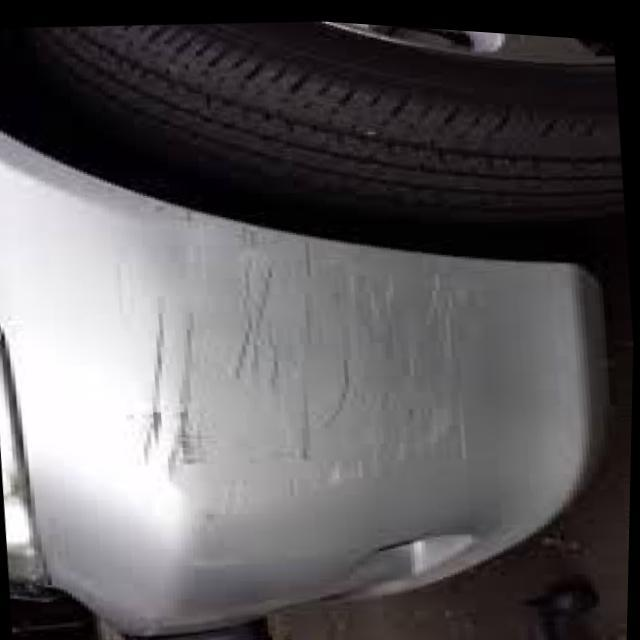Scratch: (136, 209, 480, 484)
